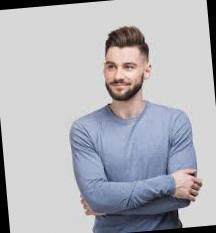Sober: (105, 49, 142, 96)
